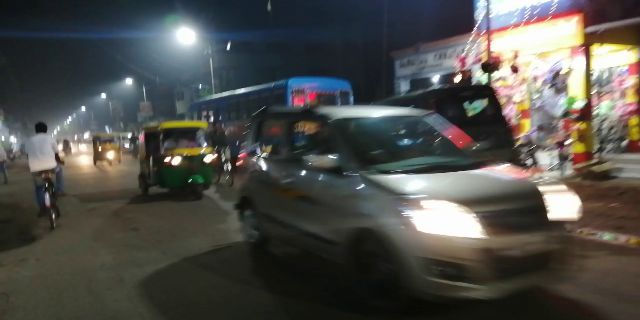Autorickshaw: (143, 115, 216, 206)
Car: (256, 102, 584, 308)
Cycle: (19, 120, 72, 238)
